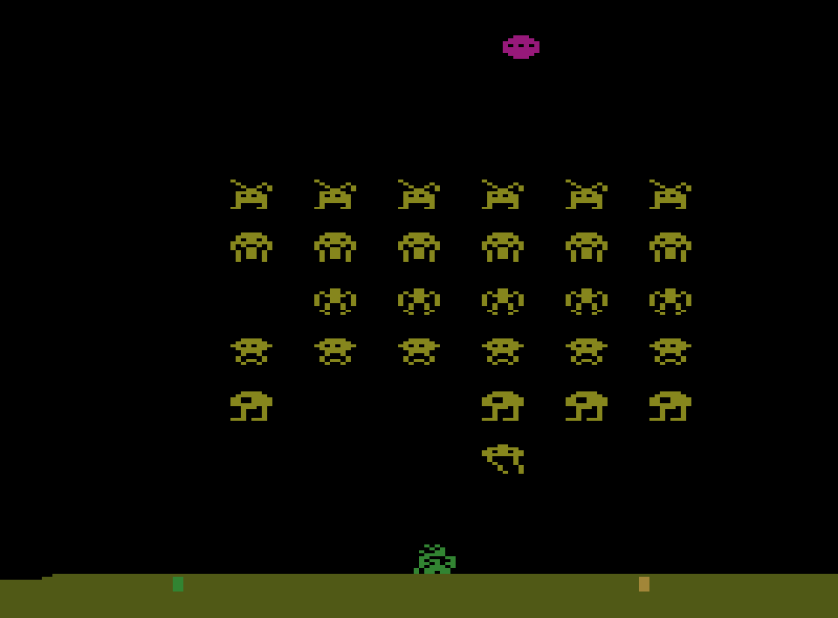bonus: (501, 33, 542, 61)
invader1: (564, 175, 610, 210), (397, 176, 442, 210), (480, 177, 525, 211), (230, 177, 274, 211), (649, 176, 693, 210), (314, 177, 359, 210)
invader2: (646, 229, 694, 264), (480, 229, 526, 264), (564, 229, 610, 264), (229, 230, 275, 264), (397, 229, 442, 263), (314, 230, 358, 264)
invader3: (480, 285, 527, 317), (564, 284, 610, 316), (648, 285, 694, 317), (312, 285, 359, 316), (395, 285, 442, 316)
invader4: (395, 334, 442, 367), (228, 336, 275, 367), (480, 335, 525, 367), (565, 335, 610, 367), (314, 335, 357, 368), (649, 336, 692, 367)
invader5: (648, 388, 692, 424), (227, 389, 274, 422), (480, 389, 525, 422), (565, 389, 609, 422)
invader6: (480, 442, 526, 475)
player: (410, 541, 459, 575)
